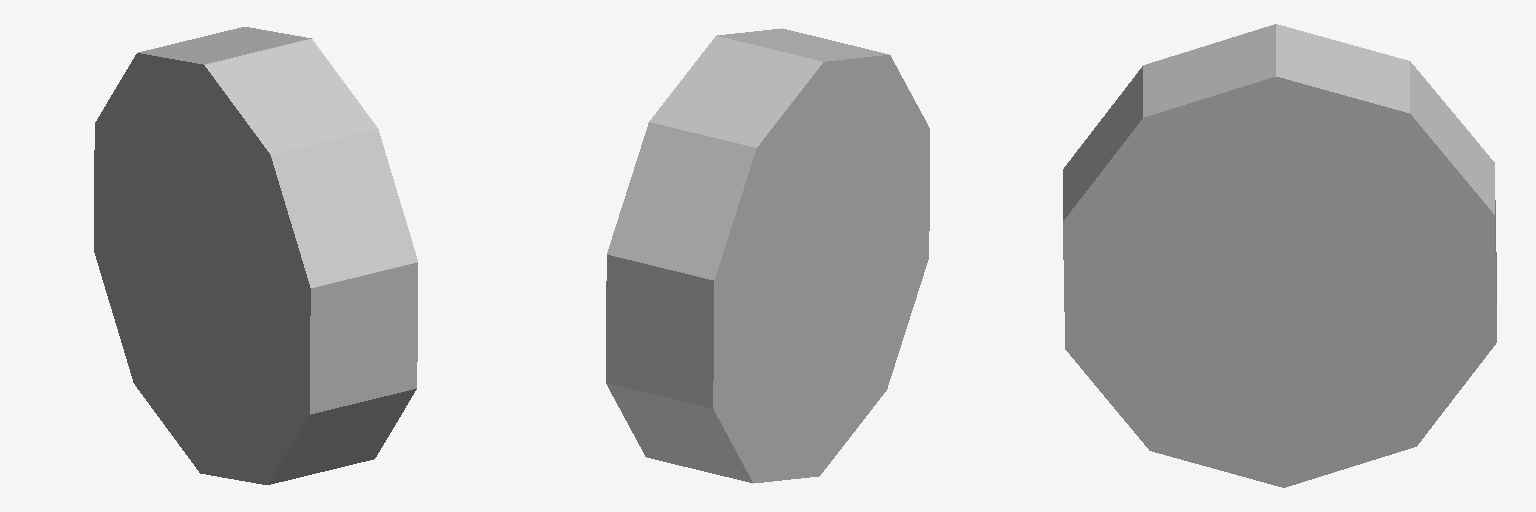
File: wheel.obj
The picture shows the model from 3 angles: view 1: azimuth 30°, elevation 25°; view 2: azimuth 150°, elevation 25°; view 3: azimuth 270°, elevation 25°; orthographic projection.
Parts seen in each view (by area): view 1: Cylinder; view 2: Cylinder; view 3: Cylinder.
Part boxes in pixels (x1,y1,x2,y2): Cylinder: (94,27,417,484); Cylinder: (606,28,929,483); Cylinder: (1063,24,1496,487).
Size of the model in its own units: 2.2 by 8.03 by 7.68.